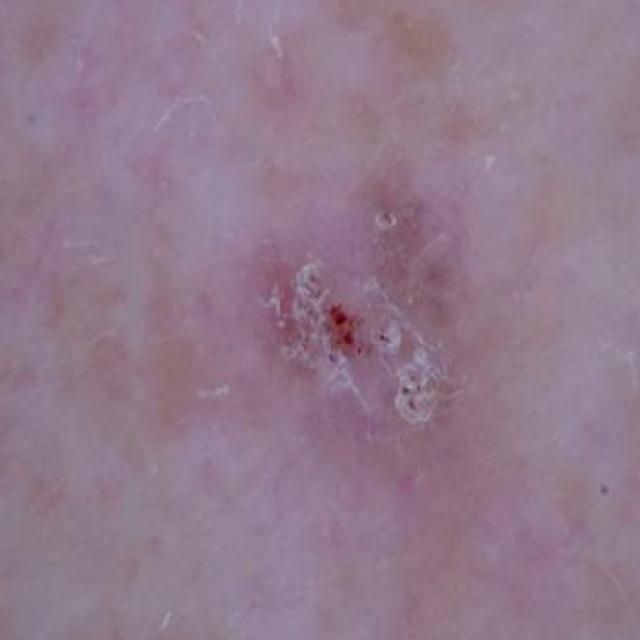BKL: (186, 96, 526, 498)
